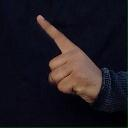hand: (35, 14, 102, 103)
